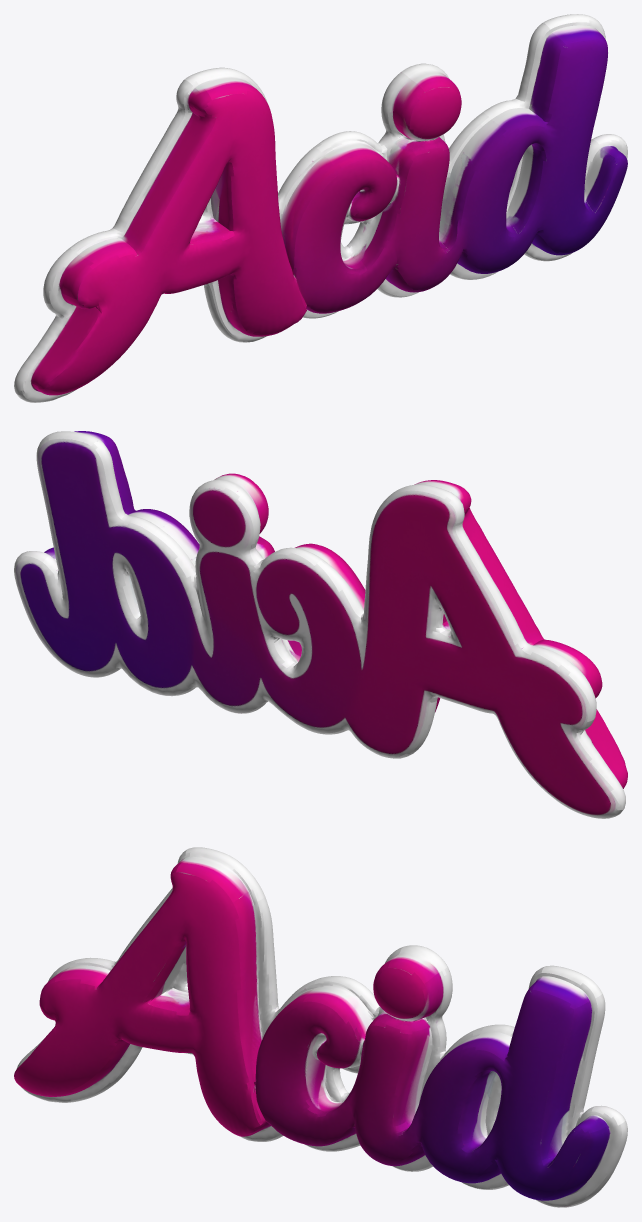
The model's file is 1793166322244_Sin_t_tulo.glb.
3 views of the same model, one above another, from view 1: azimuth 30°, elevation 25°; view 2: azimuth 150°, elevation 25°; view 3: azimuth 330°, elevation 25° (orthographic).
Visible parts, largest first — view 1: mesh_0; view 2: mesh_0; view 3: mesh_0.
Part boxes in pixels (x1,y1,x2,y2): mesh_0: (14, 14, 627, 402); mesh_0: (14, 431, 627, 818); mesh_0: (14, 847, 627, 1207).
Size of the model in its own units: 1.9 by 0.8626 by 0.1674.
Materials: 1 (1 with a texture image).
